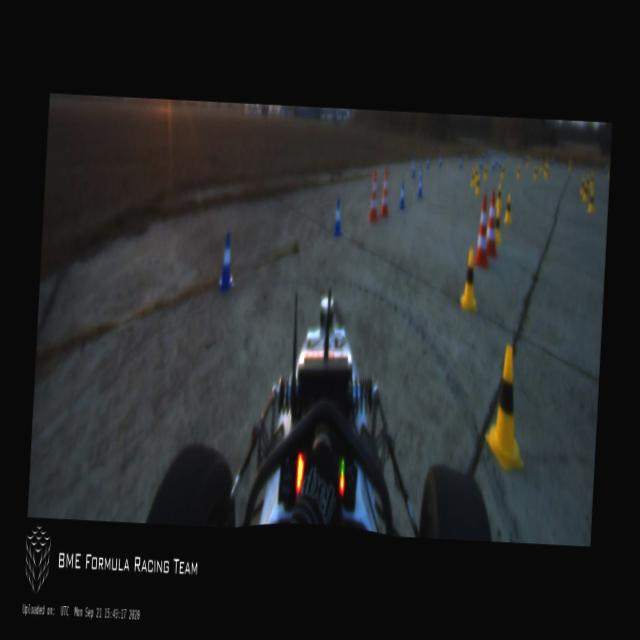blue_cone: (218, 232, 235, 294), (333, 198, 344, 237), (398, 180, 406, 210), (418, 178, 423, 197), (419, 166, 423, 182), (412, 162, 416, 178), (459, 156, 464, 168), (492, 159, 496, 170), (426, 156, 429, 170), (480, 157, 483, 170), (489, 148, 492, 161), (502, 153, 505, 165), (499, 158, 502, 168), (606, 162, 608, 175), (440, 156, 442, 168), (496, 155, 498, 166), (482, 152, 484, 162), (552, 156, 554, 164)
large_orange_cone: (473, 193, 493, 270), (486, 190, 500, 258), (378, 168, 392, 216), (369, 168, 380, 222)
yellow_cone: (482, 344, 530, 472), (459, 248, 481, 313), (494, 204, 504, 244), (504, 191, 514, 225), (587, 187, 596, 214), (580, 174, 586, 198), (475, 175, 481, 195), (497, 184, 502, 207), (582, 183, 588, 202), (585, 172, 590, 190), (500, 163, 505, 180), (471, 171, 476, 187), (533, 164, 538, 180), (484, 164, 488, 182), (516, 163, 520, 180), (568, 157, 572, 171), (539, 158, 543, 172), (545, 164, 549, 178), (526, 154, 530, 167), (591, 172, 594, 188), (607, 168, 610, 180), (475, 166, 478, 178), (544, 163, 546, 178)
